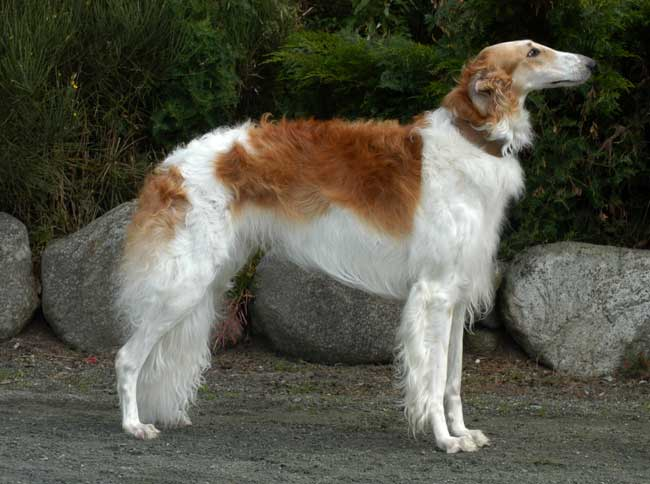borzoi: (103, 34, 616, 460)
